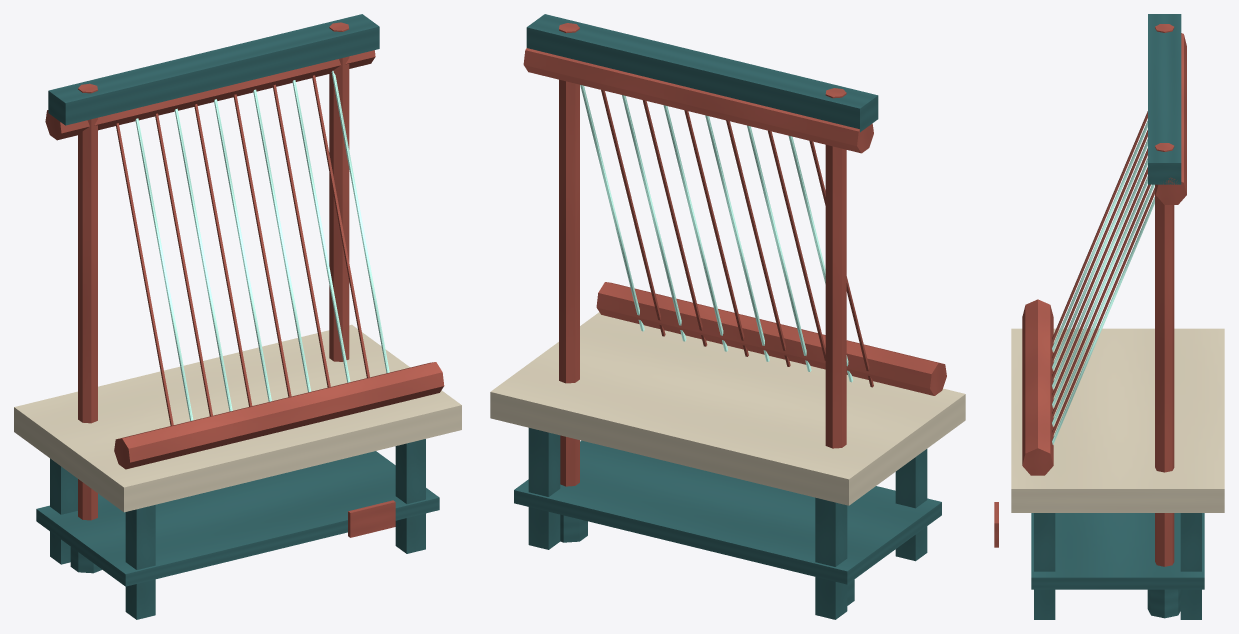
The model's file is atlas100-s037-a01.lod1.glb.
The picture shows the model from 3 angles, left to right: view 1: azimuth 30°, elevation 25°; view 2: azimuth 150°, elevation 25°; view 3: azimuth 270°, elevation 25°; orthographic projection. The views are drawn at different scales.
Visible parts, largest first — view 1: atlas100-s037-a01:part-004, atlas100-s037-a01:part-005, atlas100-s037-a01:part-010, atlas100-s037-a01:part-024, atlas100-s037-a01:part-006, atlas100-s037-a01:part-008, atlas100-s037-a01:part-025, atlas100-s037-a01:part-001, atlas100-s037-a01:part-003, atlas100-s037-a01:part-000, atlas100-s037-a01:part-026, atlas100-s037-a01:part-015 (+11 smaller); view 2: atlas100-s037-a01:part-004, atlas100-s037-a01:part-005, atlas100-s037-a01:part-010, atlas100-s037-a01:part-024, atlas100-s037-a01:part-025, atlas100-s037-a01:part-008, atlas100-s037-a01:part-006, atlas100-s037-a01:part-002, atlas100-s037-a01:part-000, atlas100-s037-a01:part-001, atlas100-s037-a01:part-020, atlas100-s037-a01:part-023 (+11 smaller); view 3: atlas100-s037-a01:part-004, atlas100-s037-a01:part-005, atlas100-s037-a01:part-008, atlas100-s037-a01:part-010, atlas100-s037-a01:part-024, atlas100-s037-a01:part-002, atlas100-s037-a01:part-003, atlas100-s037-a01:part-025, atlas100-s037-a01:part-009, atlas100-s037-a01:part-022, atlas100-s037-a01:part-023, atlas100-s037-a01:part-021 (+9 smaller).
Boxes of the visible parts, x1,y1,x2,y2 form: atlas100-s037-a01:part-004: (14, 324, 461, 512); atlas100-s037-a01:part-005: (36, 451, 439, 586); atlas100-s037-a01:part-010: (48, 14, 379, 125); atlas100-s037-a01:part-024: (114, 362, 444, 469); atlas100-s037-a01:part-006: (78, 83, 97, 520); atlas100-s037-a01:part-008: (329, 22, 349, 361); atlas100-s037-a01:part-025: (45, 50, 375, 140); atlas100-s037-a01:part-001: (125, 505, 155, 619); atlas100-s037-a01:part-003: (395, 439, 425, 553); atlas100-s037-a01:part-000: (50, 458, 77, 564); atlas100-s037-a01:part-026: (348, 500, 395, 537); atlas100-s037-a01:part-015: (174, 108, 232, 411); atlas100-s037-a01:part-004: (490, 312, 965, 505); atlas100-s037-a01:part-005: (514, 440, 941, 584); atlas100-s037-a01:part-010: (526, 14, 878, 132); atlas100-s037-a01:part-024: (596, 282, 946, 395); atlas100-s037-a01:part-025: (523, 48, 873, 153); atlas100-s037-a01:part-008: (559, 23, 579, 486); atlas100-s037-a01:part-006: (825, 88, 846, 448); atlas100-s037-a01:part-002: (528, 428, 560, 549); atlas100-s037-a01:part-000: (815, 497, 847, 619); atlas100-s037-a01:part-001: (895, 449, 927, 561); atlas100-s037-a01:part-020: (642, 100, 707, 346); atlas100-s037-a01:part-023: (580, 85, 644, 331); atlas100-s037-a01:part-004: (1011, 328, 1224, 512); atlas100-s037-a01:part-005: (1031, 513, 1204, 589); atlas100-s037-a01:part-008: (1155, 143, 1174, 566); atlas100-s037-a01:part-010: (1148, 14, 1181, 184); atlas100-s037-a01:part-024: (1022, 299, 1053, 475); atlas100-s037-a01:part-002: (1180, 513, 1201, 619); atlas100-s037-a01:part-003: (1034, 513, 1055, 619); atlas100-s037-a01:part-025: (1155, 33, 1186, 204); atlas100-s037-a01:part-009: (1147, 589, 1180, 618); atlas100-s037-a01:part-022: (1052, 187, 1154, 435); atlas100-s037-a01:part-023: (1052, 197, 1154, 444); atlas100-s037-a01:part-021: (1052, 184, 1154, 426).
Bounding box in the file's own units: 2.84 × 3.84 × 1.73.
Materials: 4 (4 with a texture image).
